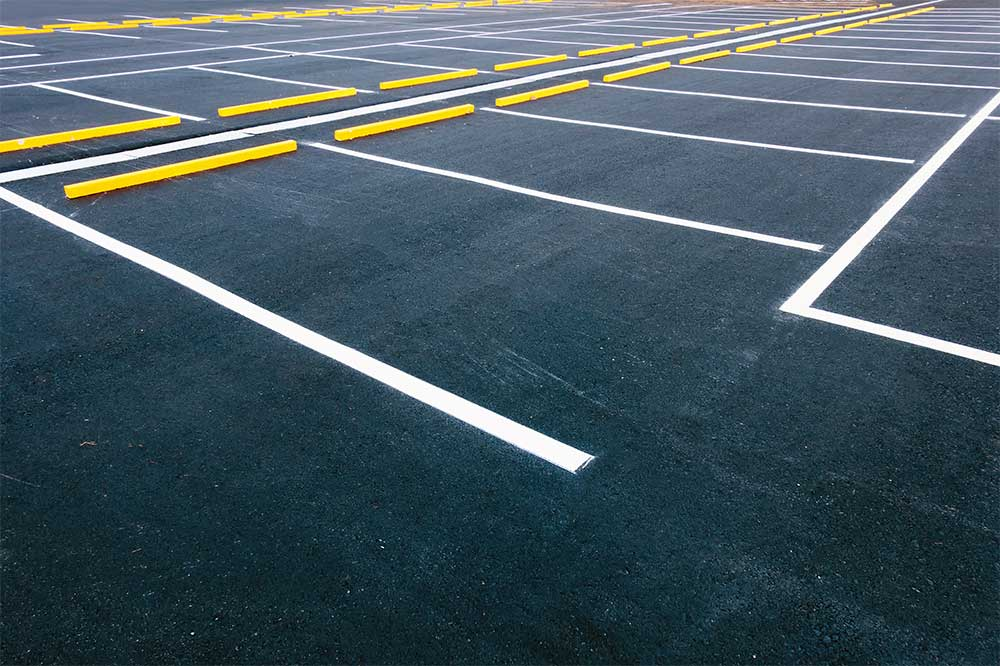Bos: (1, 147, 791, 474), (292, 104, 915, 250), (487, 83, 969, 163), (47, 42, 357, 120), (197, 42, 487, 92), (1, 84, 203, 150)
